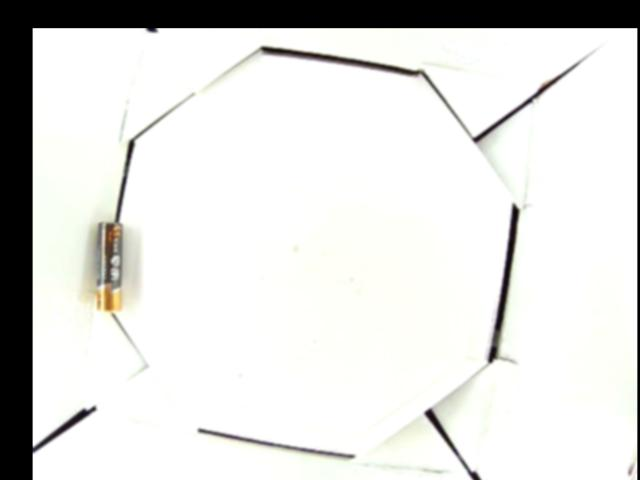Battery: (97, 219, 126, 313)
